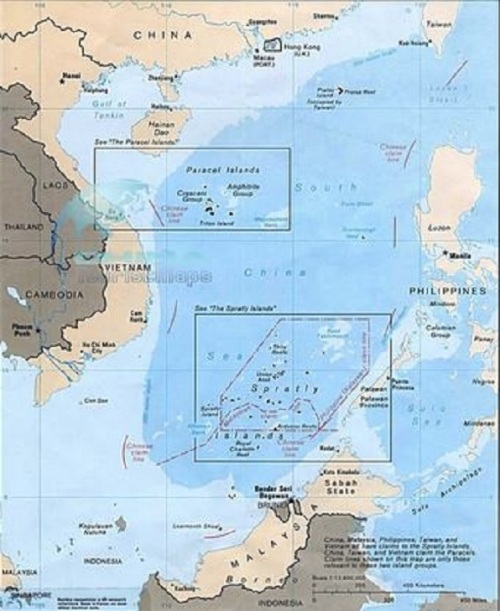Island: (203, 322, 352, 456), (171, 155, 273, 225)
